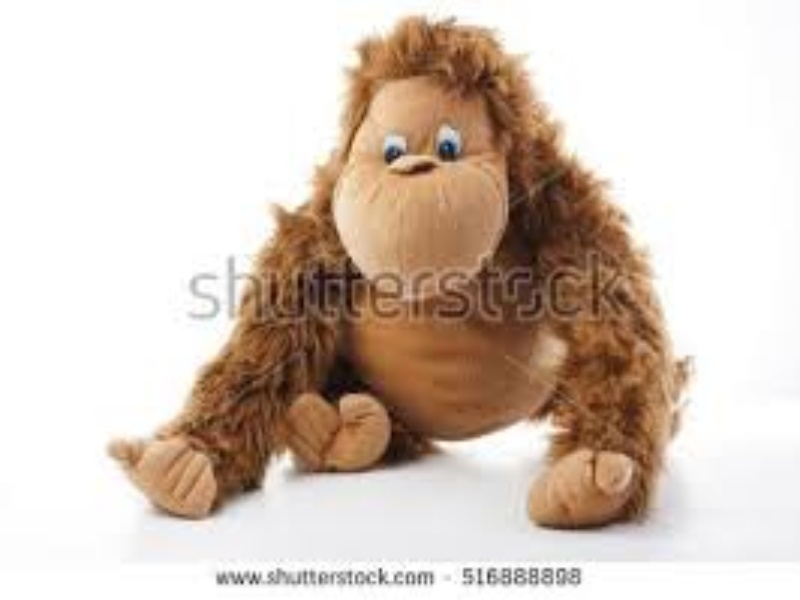monkey: (106, 7, 692, 536)
